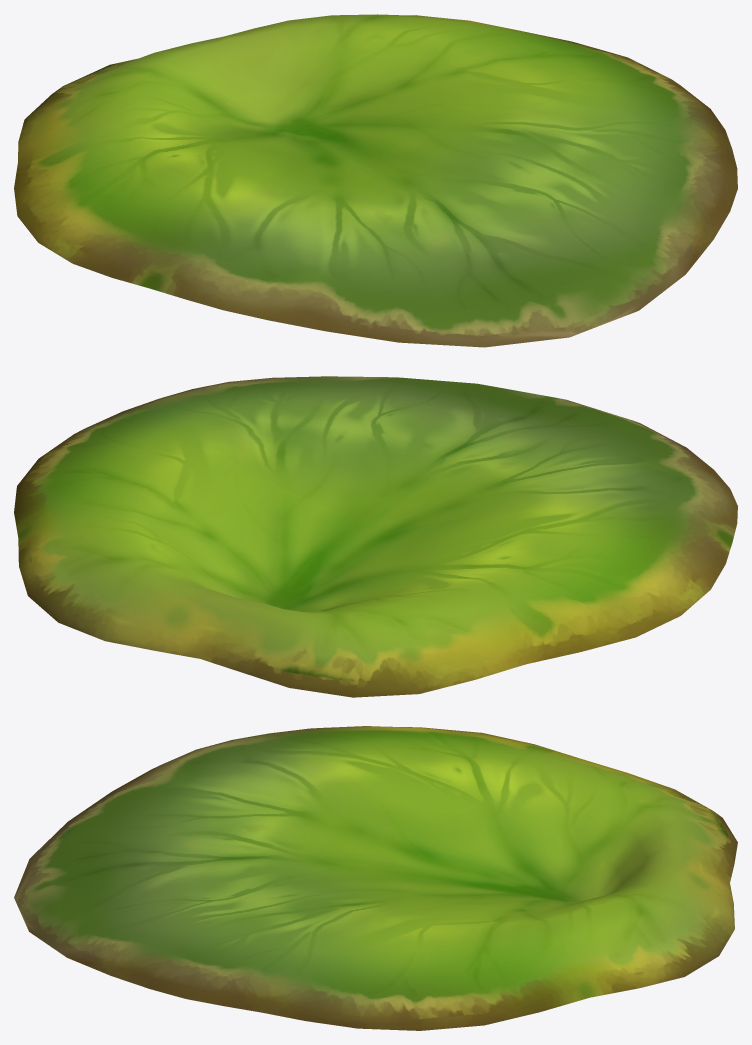
File: RoundLeaf.fbx
The picture shows the model from 3 angles, top to bottom: view 1: azimuth 30°, elevation 25°; view 2: azimuth 150°, elevation 25°; view 3: azimuth 270°, elevation 25°; orthographic projection. The views are drawn at different scales.
Parts seen in each view (by area): view 1: Object006; view 2: Object006; view 3: Object006.
Boxes of the visible parts, x1,y1,x2,y2 form: Object006: [14, 14, 737, 347]; Object006: [14, 376, 737, 697]; Object006: [14, 726, 737, 1030].
Bounding box in the file's own units: 7.33 × 0.674 × 7.44.
